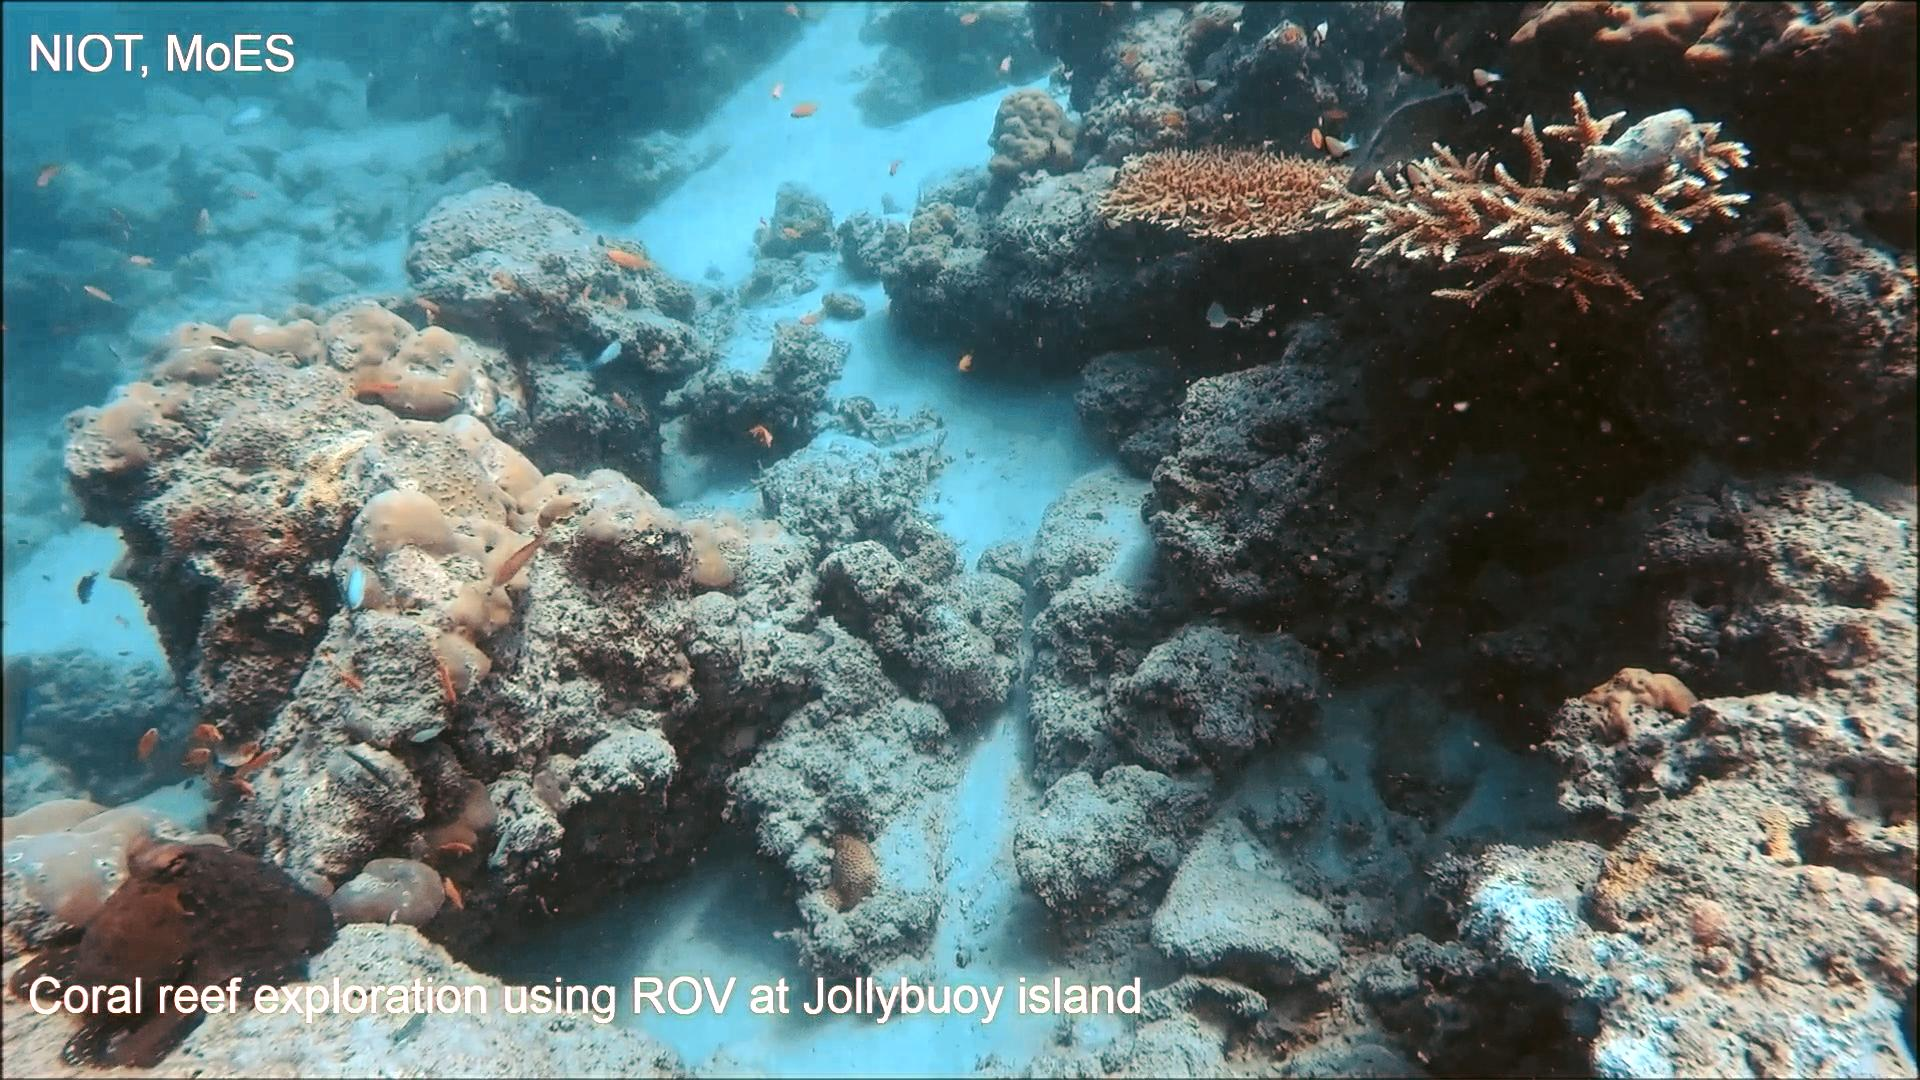Porites-Porites pukoensis: (318, 291, 597, 711)
